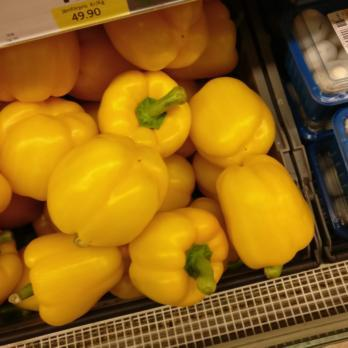Capsicum: (0, 69, 214, 324), (102, 22, 318, 273), (0, 47, 112, 98)
